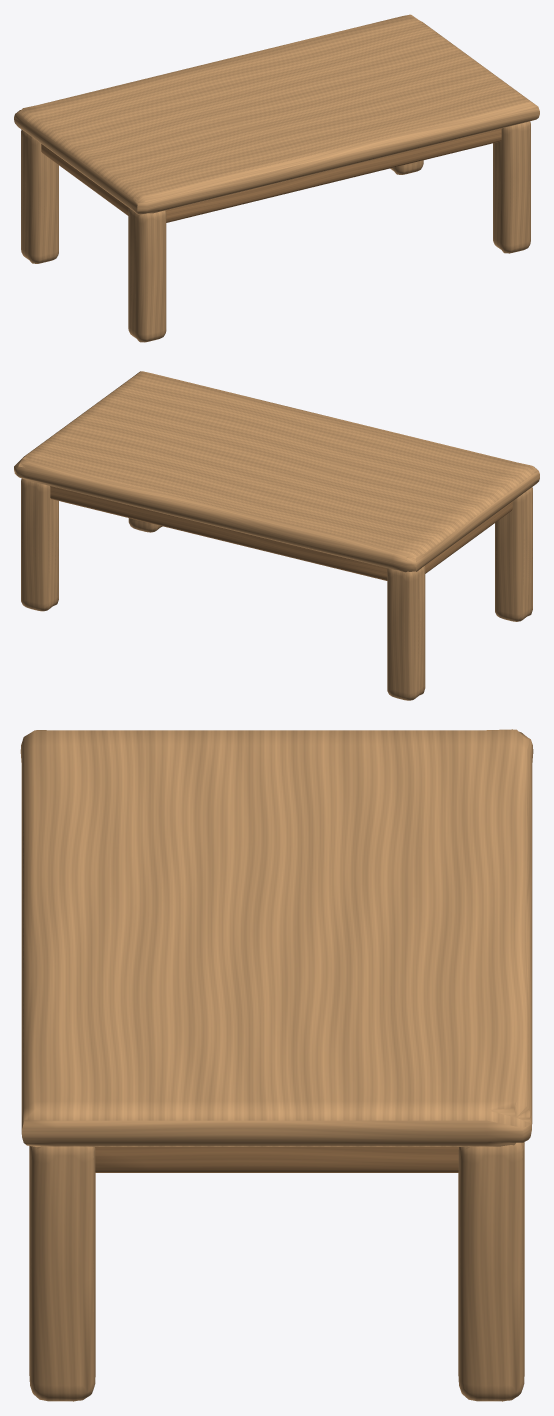
Rendered from measured.glb.
The picture shows the model from 3 angles, top to bottom: view 1: azimuth 30°, elevation 25°; view 2: azimuth 150°, elevation 25°; view 3: azimuth 270°, elevation 25°; orthographic projection. The views are drawn at different scales.
Visible parts, largest first — view 1: Soft-edged top, Rounded leg_1, Rounded leg_3, Long apron_1, Rounded leg, End apron; view 2: Soft-edged top, Rounded leg, Rounded leg_2, Long apron, Rounded leg_1, End apron; view 3: Soft-edged top, Rounded leg_2, Rounded leg_3, End apron_1.
Boxes of the visible parts, box(x1,y1,x2,y2) form: Soft-edged top: box(14, 14, 539, 214); Rounded leg_1: box(128, 208, 166, 342); Rounded leg_3: box(493, 121, 530, 253); Long apron_1: box(166, 128, 501, 222); Rounded leg: box(21, 129, 58, 263); End apron: box(41, 144, 128, 215); Soft-edged top: box(14, 371, 539, 572); Rounded leg: box(387, 566, 425, 700); Rounded leg_2: box(21, 478, 58, 611); Long apron: box(50, 486, 387, 580); Rounded leg_1: box(495, 487, 532, 621); End apron: box(425, 501, 512, 573); Soft-edged top: box(20, 729, 533, 1146); Rounded leg_2: box(458, 1142, 524, 1401); Rounded leg_3: box(29, 1146, 95, 1401); End apron_1: box(95, 1147, 458, 1172).
Bounding box in the file's own units: 1.16 × 0.4122 × 0.643.
2 materials, 2 textured.
